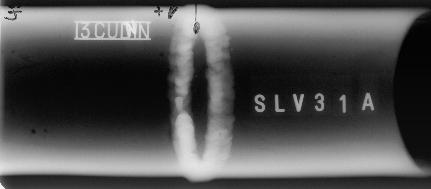IE: (218, 117, 228, 159)
